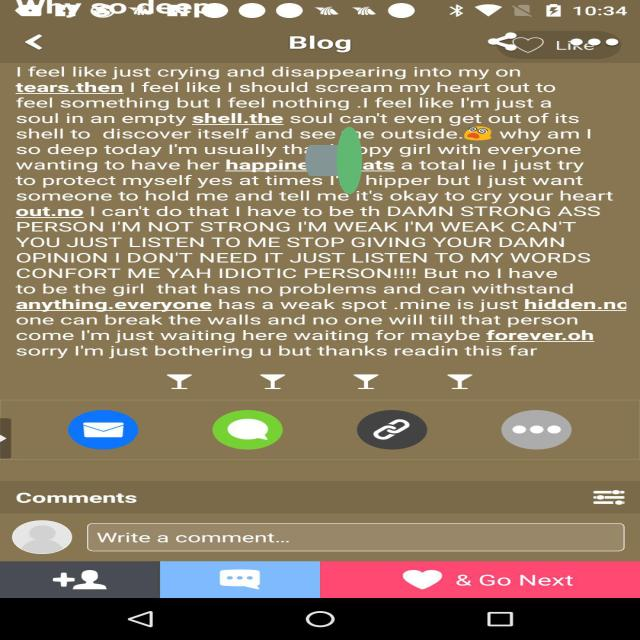social proof: (305, 85, 362, 236)
